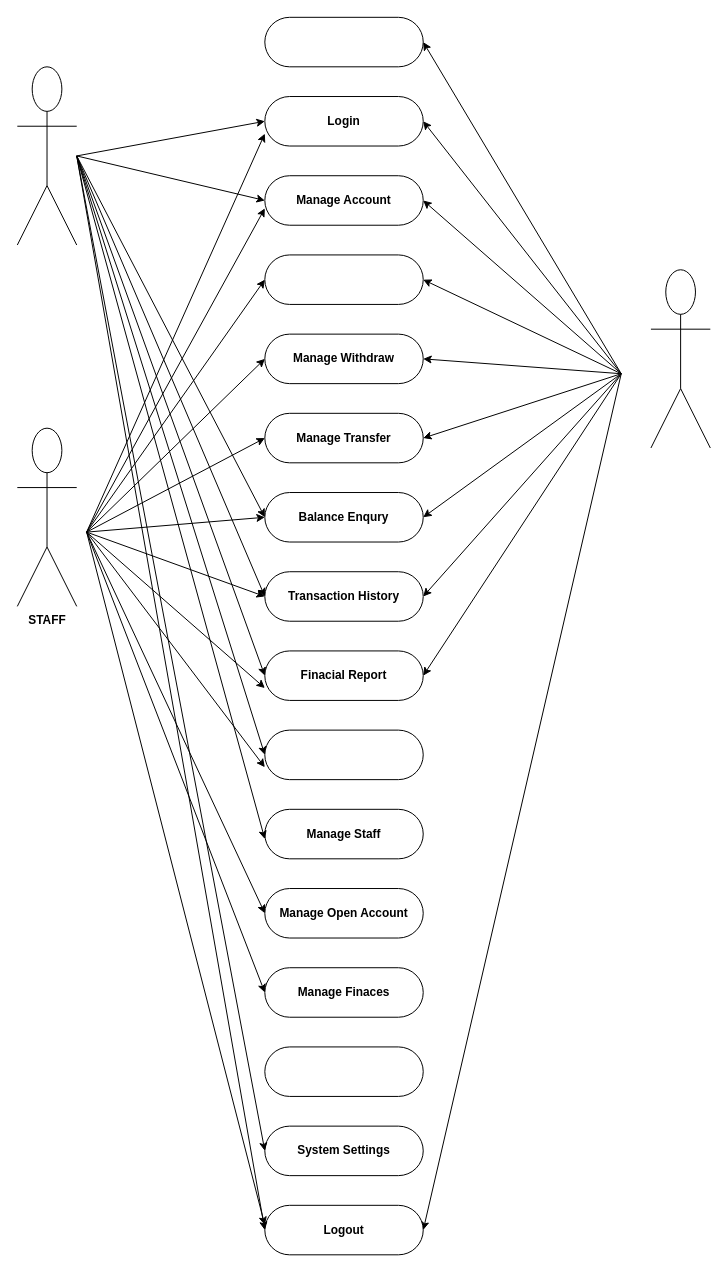
Some shapes in this 728 by 1272 pixel diagram are drawn without their labels. The shapes that lost their labels are listed below. From the top down, each one's centre as x and y in pixels, then its label:
At point (343, 41): "Registation".
At point (46, 155): "ADMIN".
At point (343, 279): "Manage Deposit".
At point (680, 358): "CLIENT".
At point (343, 754): "Manage Client".
At point (343, 1071): "Manage Account Type".
